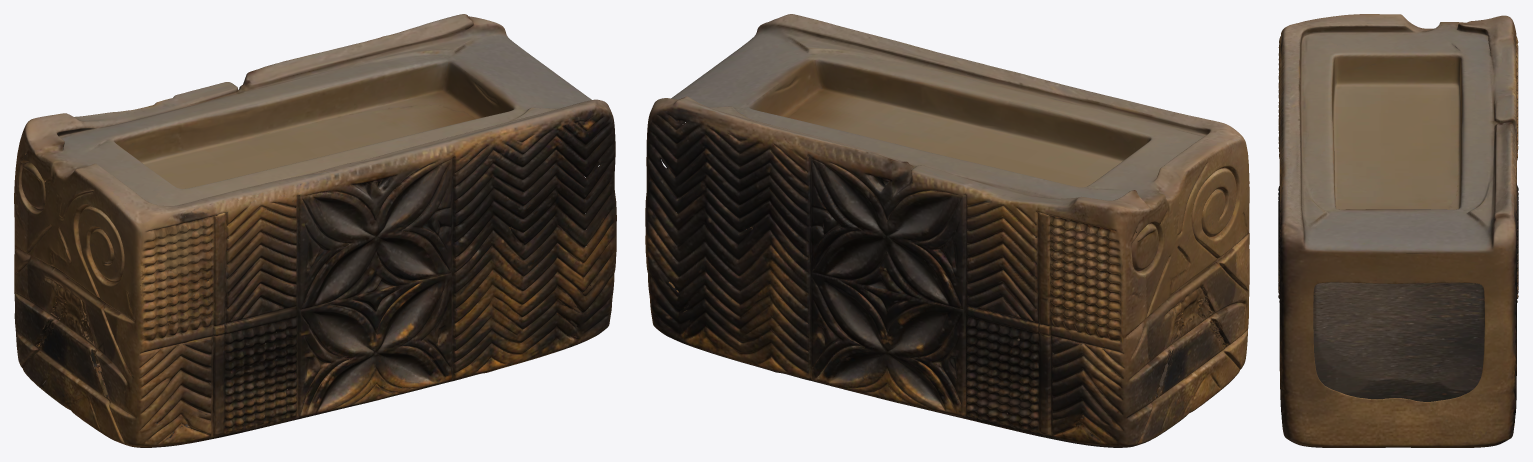
File: 048-reznaya-derevyannaya-shkatulka.glb
The picture shows the model from 3 angles, left to right: view 1: azimuth 30°, elevation 25°; view 2: azimuth 150°, elevation 25°; view 3: azimuth 270°, elevation 25°; orthographic projection. The views are drawn at different scales.
Parts seen in each view (by area): view 1: node_0; view 2: node_0; view 3: node_0.
Boxes of the visible parts, box(x1,y1,x2,y2) form: node_0: box(14, 14, 616, 447); node_0: box(645, 14, 1249, 447); node_0: box(1278, 14, 1518, 447).
Bounding box in the file's own units: 1.04 × 0.5079 × 0.4813.
Materials: 1 (1 with a texture image).
